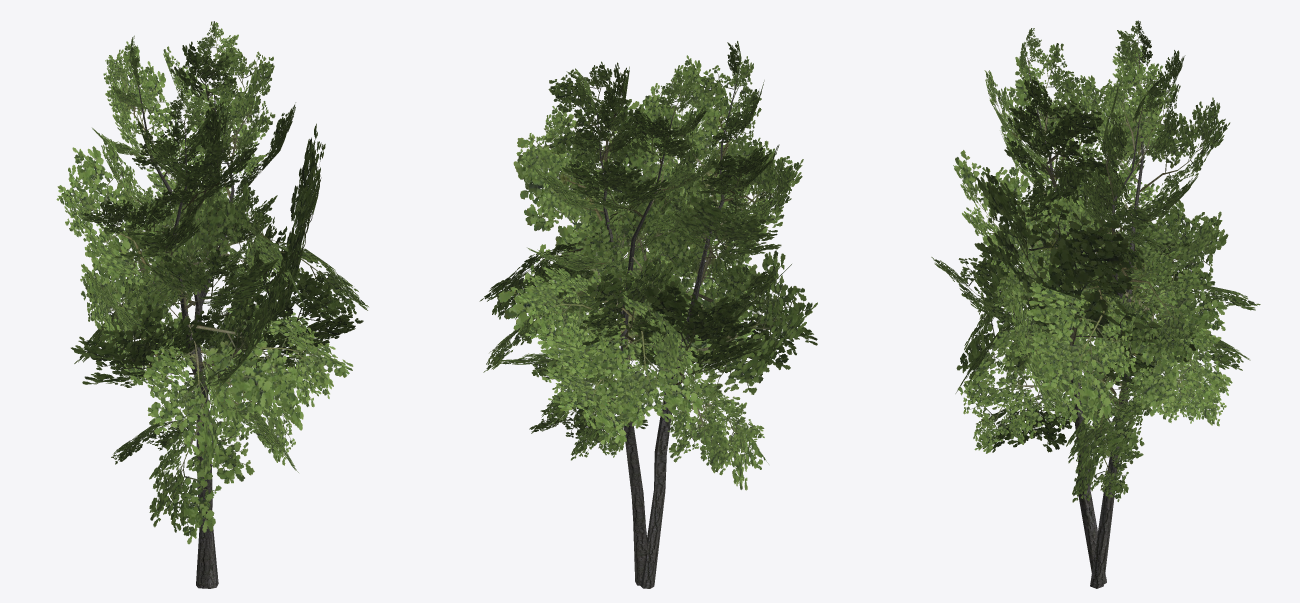
File: runtime-manzanillo.glb
3 views of the same model, side by side, from view 1: azimuth 30°, elevation 25°; view 2: azimuth 150°, elevation 25°; view 3: azimuth 270°, elevation 25° (orthographic).
Parts seen in each view (by area): view 1: Tree-03-1_8; view 2: Tree-03-1_8; view 3: Tree-03-1_8.
Boxes of the visible parts, box(x1,y1,x2,y2) form: Tree-03-1_8: box(56, 21, 368, 588); Tree-03-1_8: box(479, 41, 817, 588); Tree-03-1_8: box(931, 20, 1260, 588).
Bounding box in the file's own units: 6.97 × 10.21 × 6.67.
Materials: 6 (6 with a texture image).
